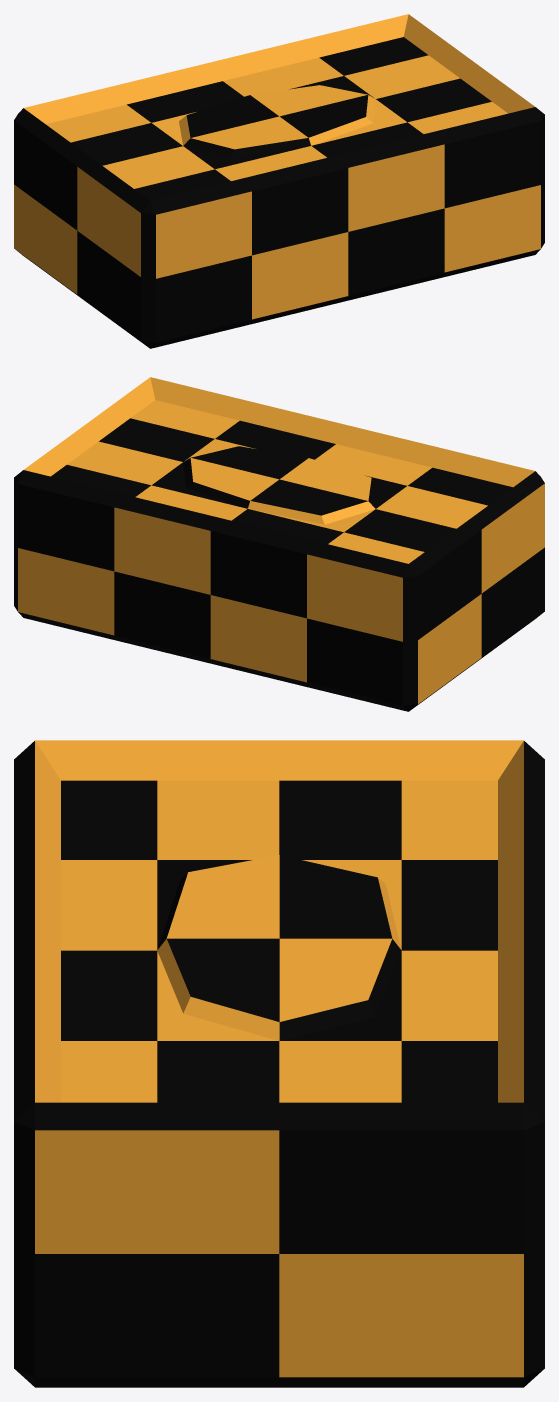
The model's file is Cake_DummyCake.fbx.
3 views of the same model, one above another, from view 1: azimuth 30°, elevation 25°; view 2: azimuth 150°, elevation 25°; view 3: azimuth 270°, elevation 25° (orthographic). The views are drawn at different scales.
Visible parts, largest first — view 1: Cake_DummyCake; view 2: Cake_DummyCake; view 3: Cake_DummyCake.
Part boxes in pixels (x1,y1,x2,y2): Cake_DummyCake: (14,14,544,348); Cake_DummyCake: (14,377,544,711); Cake_DummyCake: (14,740,544,1387).
Size of the model in its own units: 0.5605 by 0.1961 by 0.3311.
